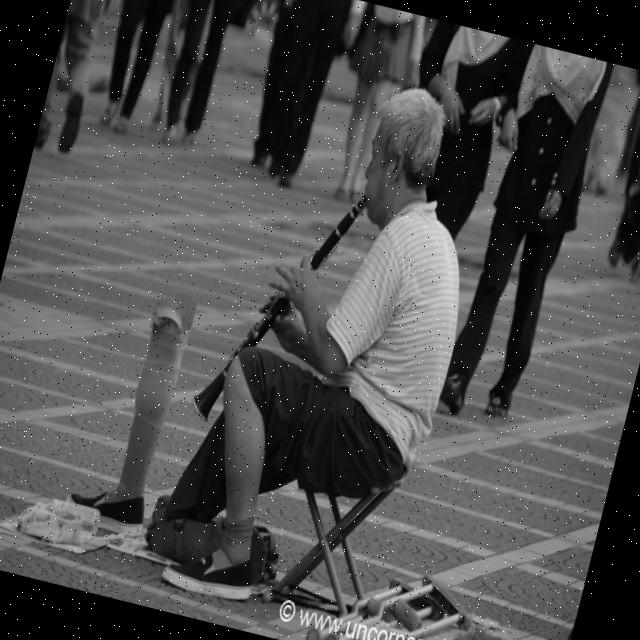clarinet: (185, 164, 368, 450)
